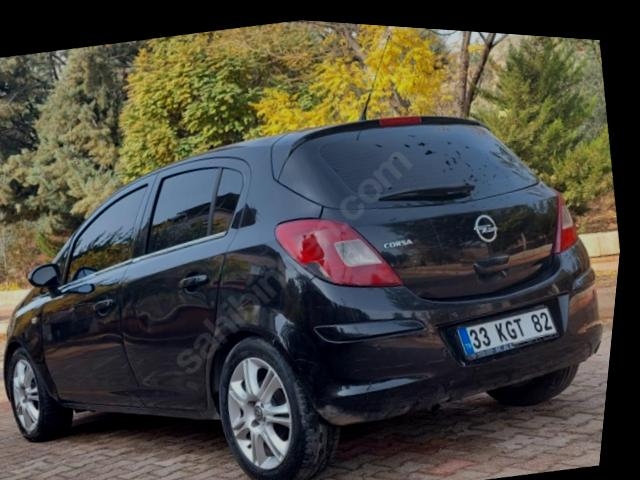plaka: (457, 307, 556, 357)
